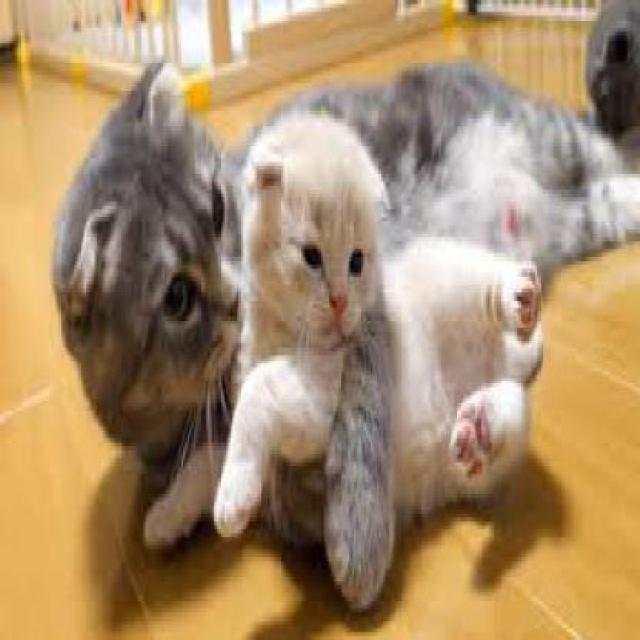cat: (49, 59, 638, 613), (217, 107, 541, 538)
